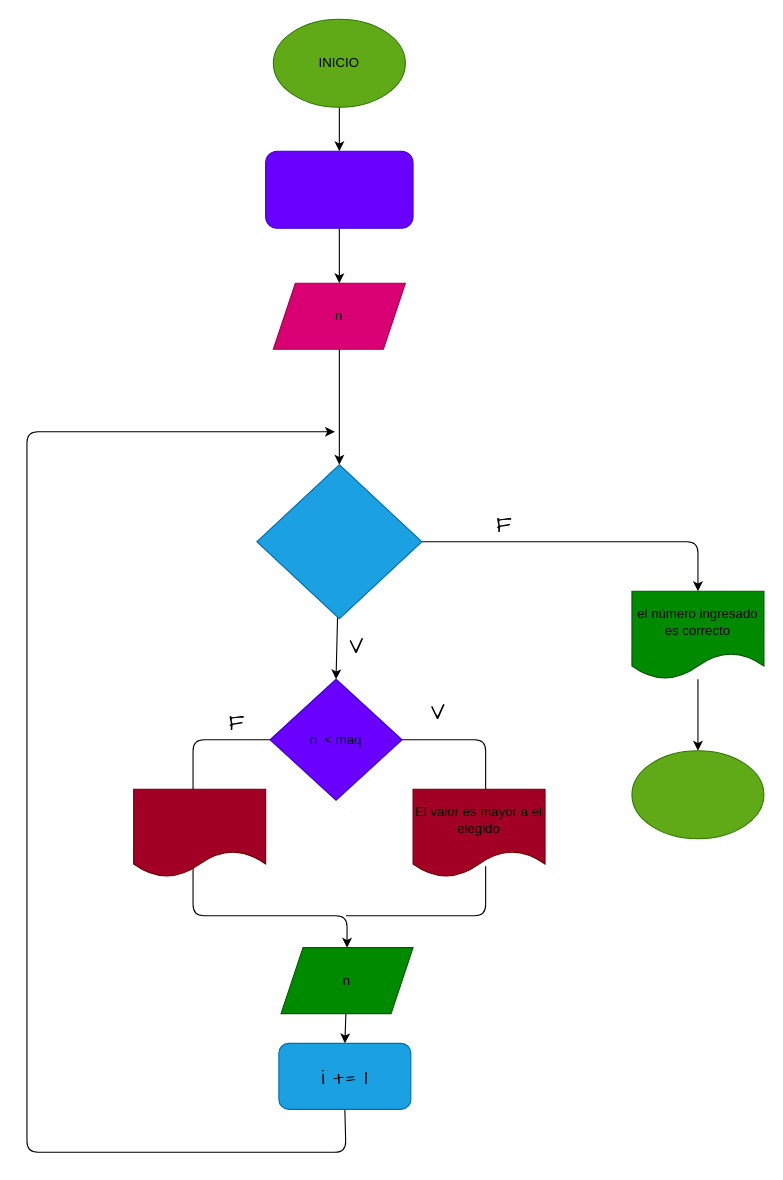
Some shapes in this 783 by 1180 pixel diagram are drawn without their labels. Here are the shapes that lost their labels. From the top down, the box of each, then its label:
(265, 150, 413, 228): maq = random.randint (1,100) i = 1
(256, 464, 422, 619): n != maq
(631, 750, 764, 839): FIN
(133, 788, 266, 877): El valor es menor a el elegido
